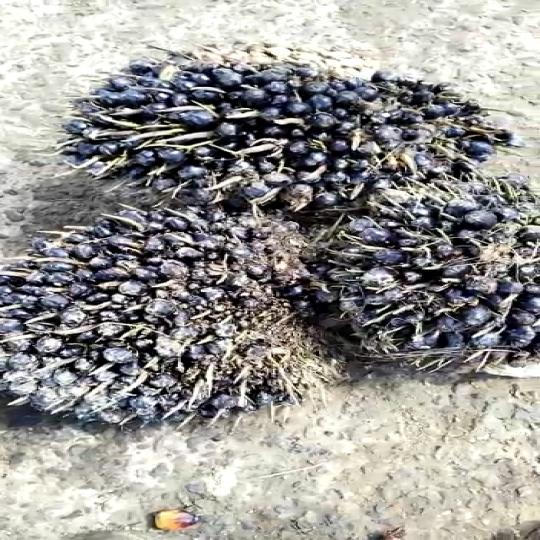mentah: (0, 196, 356, 435), (72, 40, 512, 208), (297, 173, 540, 385)
